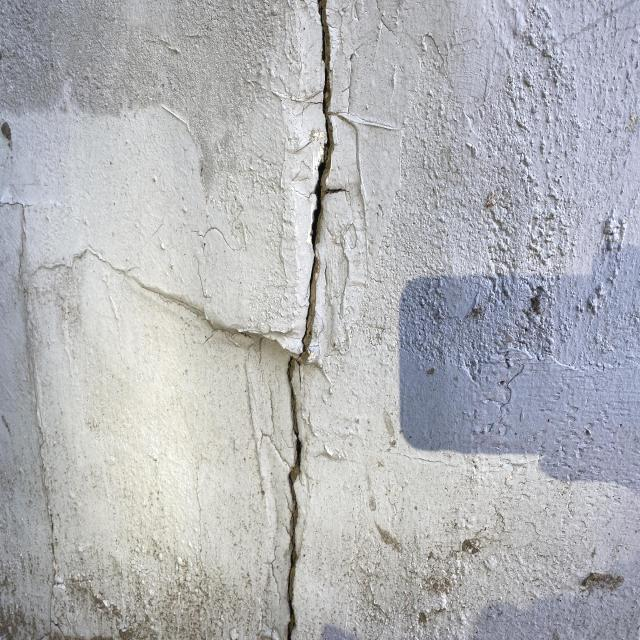SurfaceCrack: (221, 0, 397, 639), (1, 183, 132, 637)
